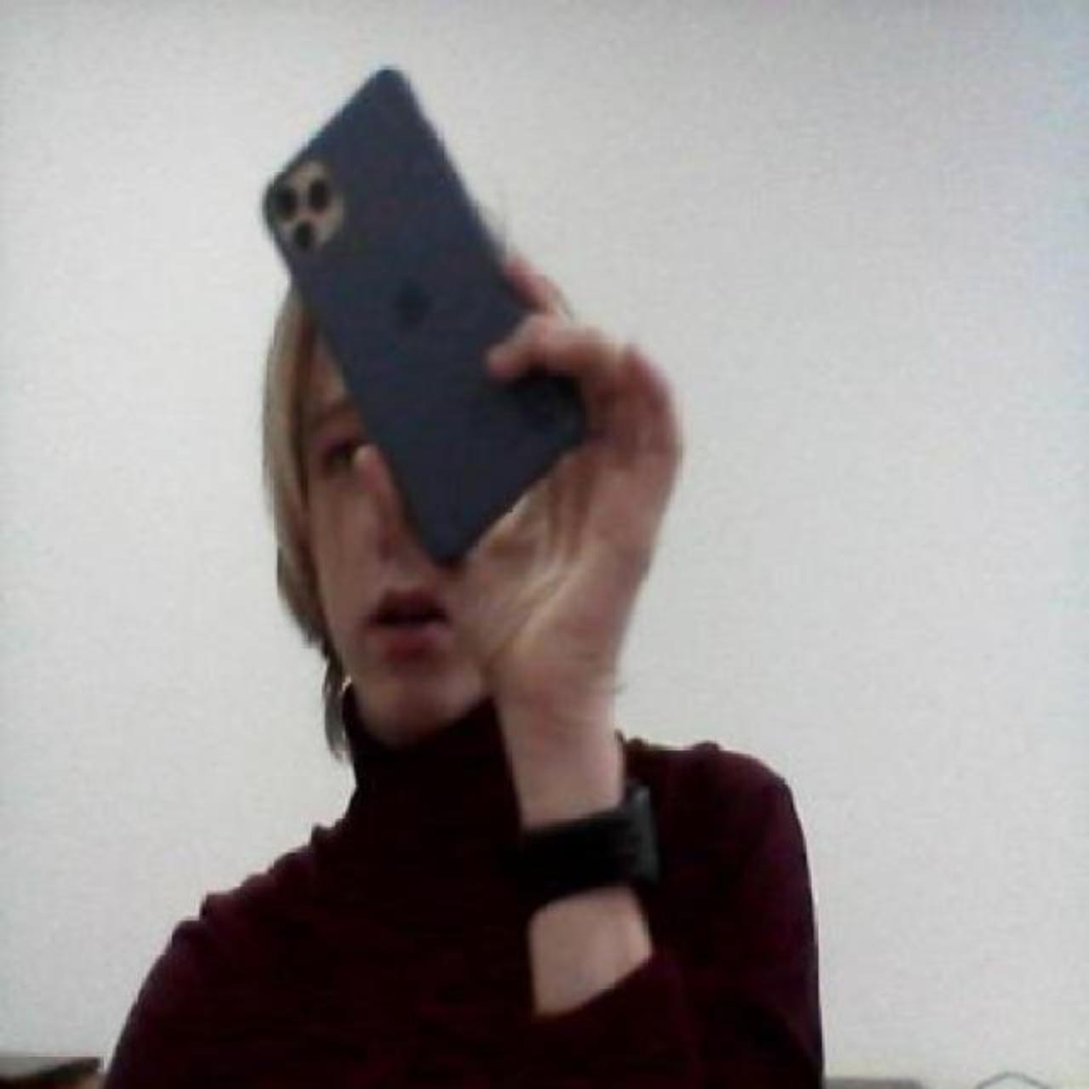phone: (257, 68, 592, 570)
